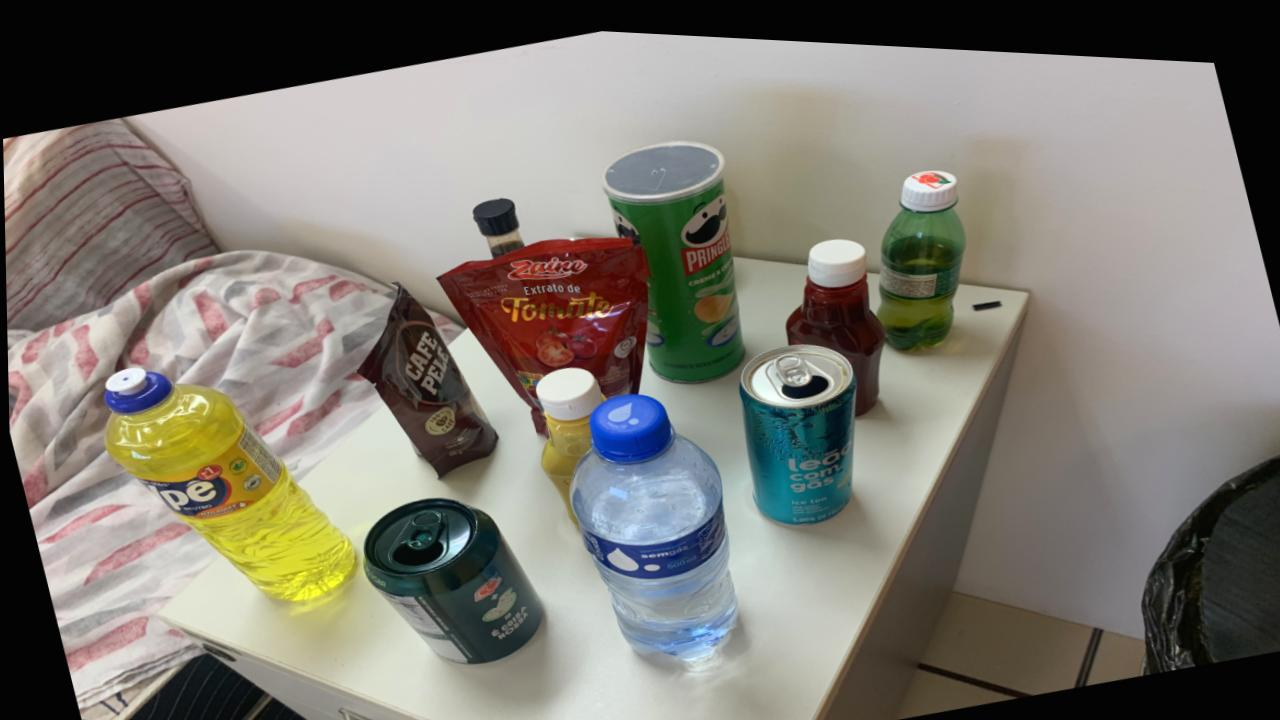Coffee-Pantry_Items: (357, 281, 495, 470)
Detergent-Cleanup_Items: (102, 365, 352, 597)
English_Sauce-Pantry_Items: (471, 192, 524, 251)
Guarana-Drinks: (875, 159, 965, 340)
Guarana_Can-Drinks: (360, 493, 540, 659)
Ketchup-Pantry_Items: (784, 229, 884, 406)
Mustard-Pantry_Items: (533, 361, 602, 518)
Pringles-Snacks: (601, 133, 743, 375)
Tea-Drinks: (737, 335, 855, 515)
Tomato_Sauce-Pantry_Items: (436, 230, 648, 405)
Water_Bottle-Drinks: (567, 386, 735, 653)
